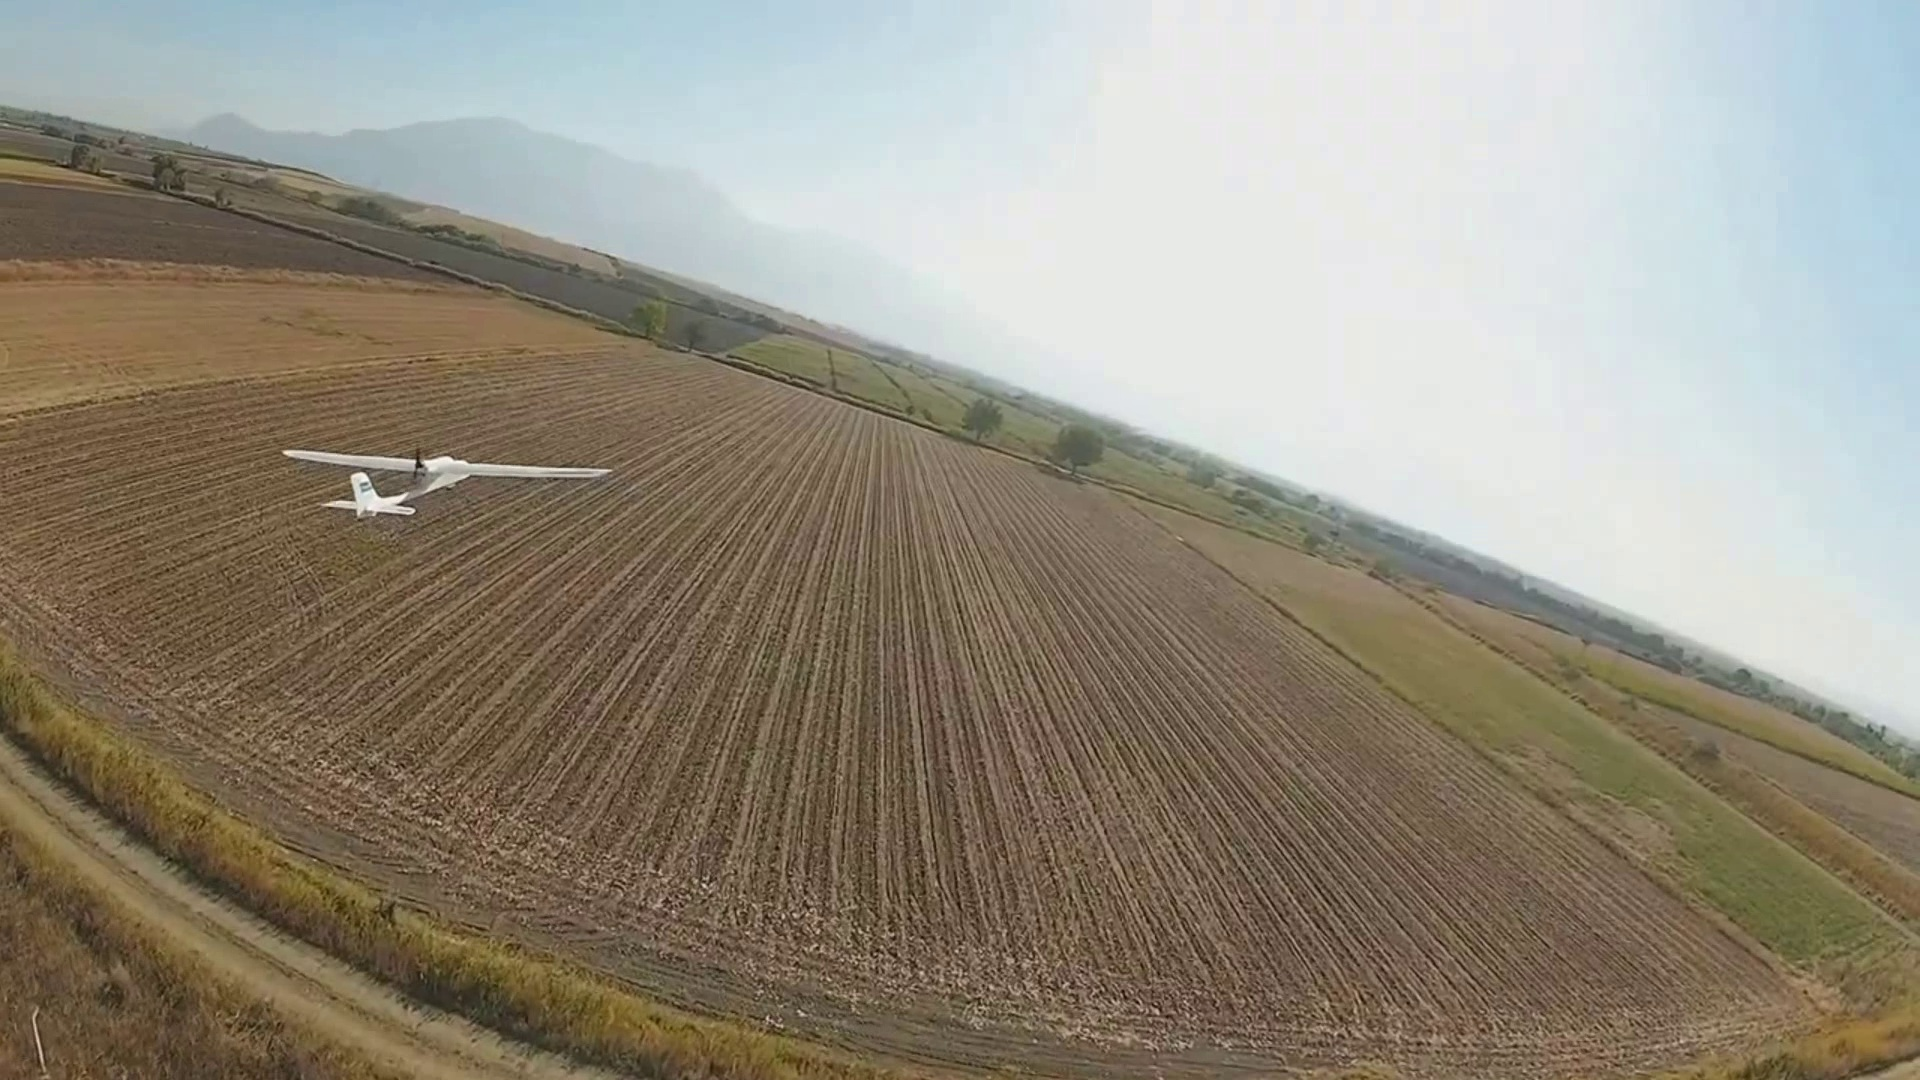airplane: (280, 449, 614, 518)
